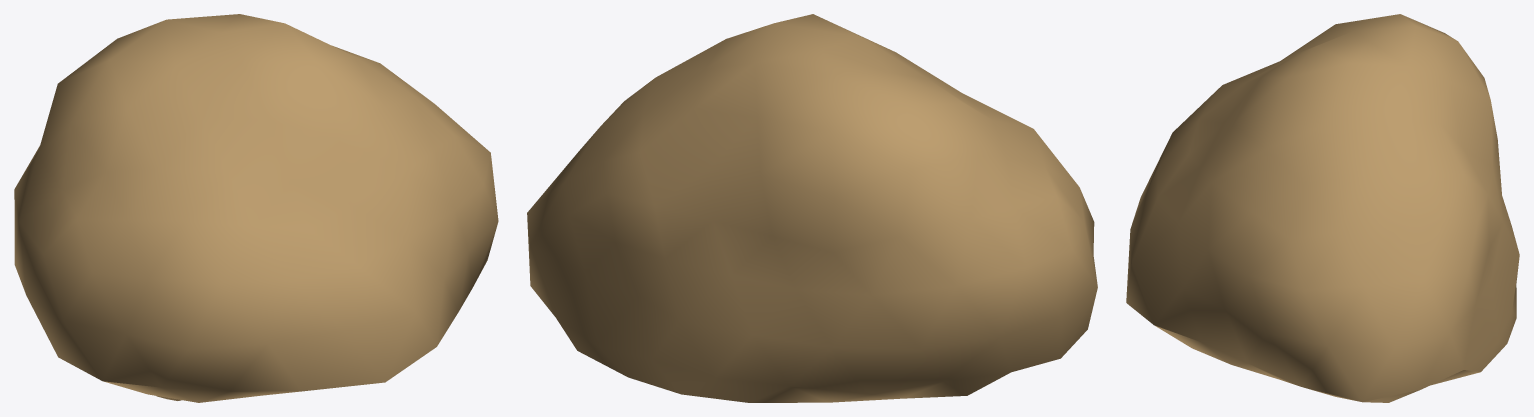
File: deco_boulder_large.fbx
3 views of the same model, side by side, from view 1: azimuth 30°, elevation 25°; view 2: azimuth 150°, elevation 25°; view 3: azimuth 270°, elevation 25° (orthographic). The views are drawn at different scales.
Visible parts, largest first — view 1: Boulder_Large_Rock1; view 2: Boulder_Large_Rock1; view 3: Boulder_Large_Rock1.
Part boxes in pixels (<box>): Boulder_Large_Rock1: <box>14,14,498,402</box>; Boulder_Large_Rock1: <box>527,14,1097,402</box>; Boulder_Large_Rock1: <box>1126,14,1519,402</box>.
Size of the model in its own units: 308 by 178 by 239.
